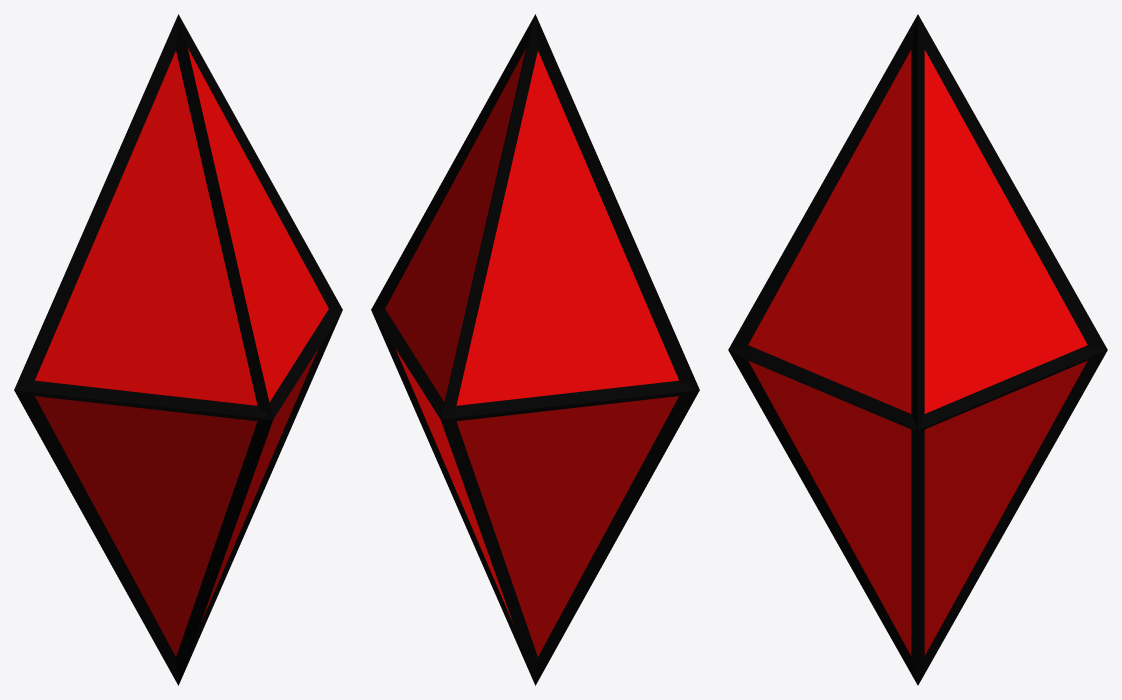
Rendered from Diamond.fbx.
The picture shows the model from 3 angles, left to right: view 1: azimuth 30°, elevation 25°; view 2: azimuth 150°, elevation 25°; view 3: azimuth 270°, elevation 25°; orthographic projection.
Parts seen in each view (by area): view 1: Diamond; view 2: Diamond; view 3: Diamond.
Boxes of the visible parts, x1,y1,x2,y2 form: Diamond: [14, 14, 342, 685]; Diamond: [371, 14, 699, 685]; Diamond: [728, 14, 1107, 685].
Size of the model in its own units: 105 by 205 by 105.
